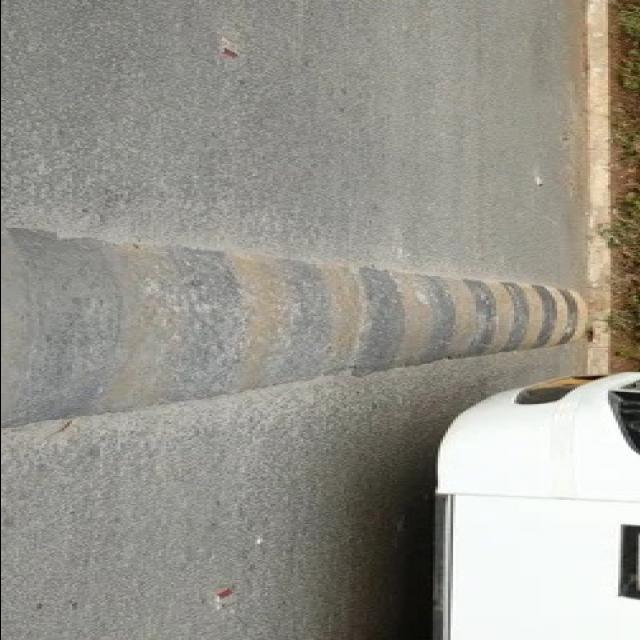speedbreaker: (11, 243, 594, 363)
